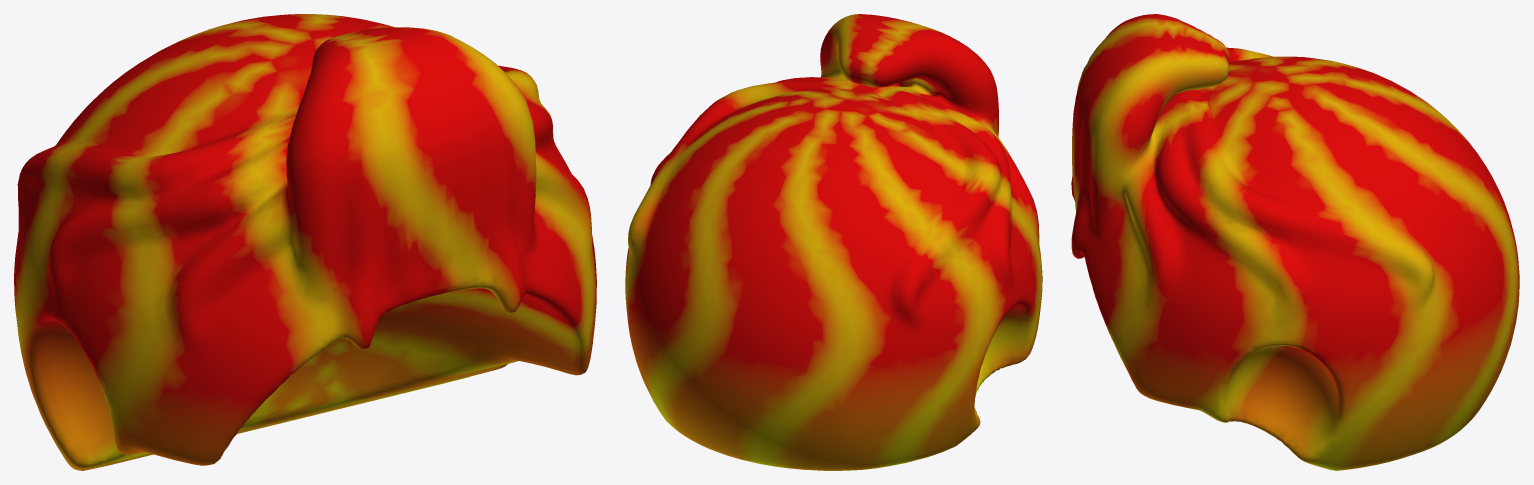
The model's file is quiff.glb.
3 renders of one model, left to right at view 1: azimuth 30°, elevation 25°; view 2: azimuth 150°, elevation 25°; view 3: azimuth 270°, elevation 25°, orthographic. The views are drawn at different scales.
Visible parts, largest first — view 1: part; view 2: part; view 3: part.
Boxes of the visible parts, x1,y1,x2,y2 form: part: (14,14,596,470); part: (625,14,1042,470); part: (1071,14,1519,470).
Bounding box in the file's own units: 2.04 × 1.81 × 2.01.
